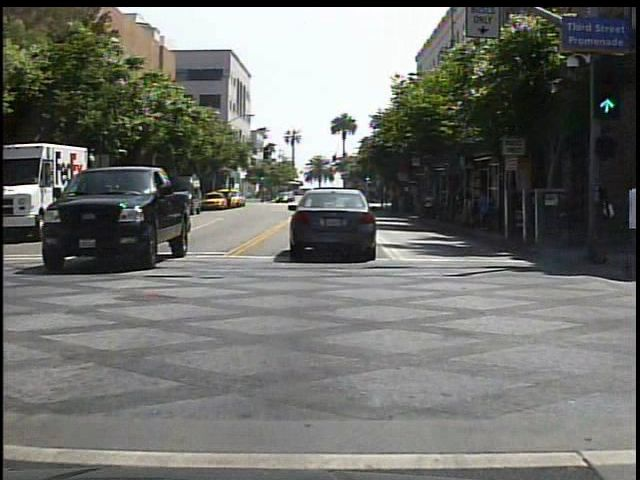person: (595, 172, 627, 271), (421, 188, 440, 224)
